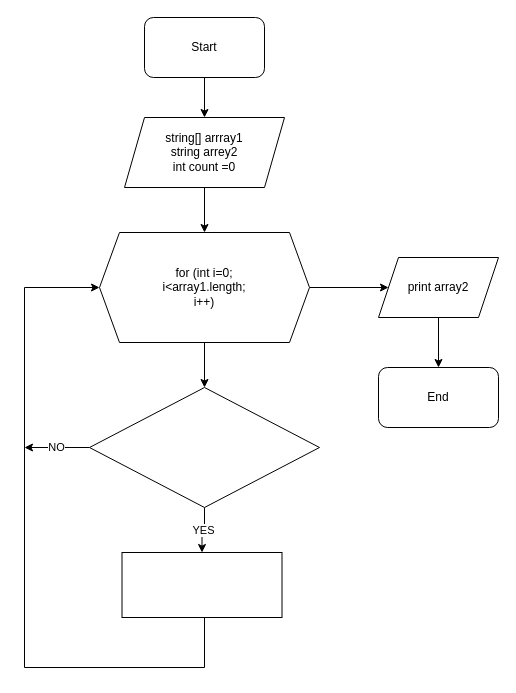
Some shapes in this 516 by 693 pixel diagram are drawn without their labels. The centre of each missing label's shape, as x and y in pixels:
array2[count] = array1 [i] count++;: (x=201, y=585)
if (array 1[i].length <=3): (x=204, y=447)
